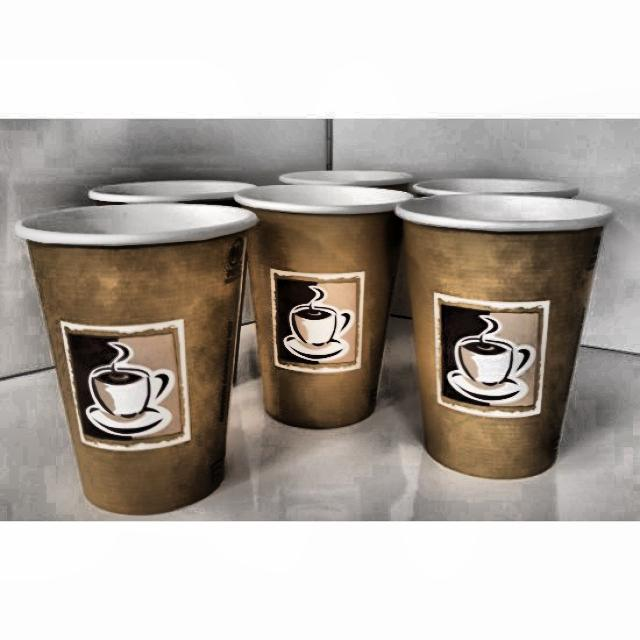Cup: (13, 199, 248, 514), (391, 179, 618, 483), (230, 176, 406, 441)
